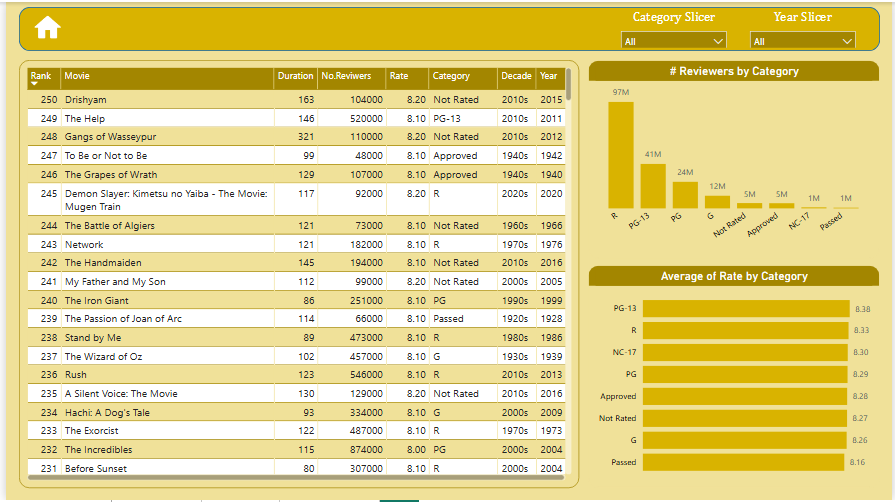

This screenshot's page, from the dashboard's own definition file:
{"tool":"powerbi","page":{"name":"Details","canvas":[1280,720],"ordinal":1},"visuals":[{"type":"tableEx","fields":{"Values":["Top250Movies.Rank","Top250Movies.Movie","Top250Movies.Duration","Top250Movies.No.Reviwers","Top250Movies.Rate","Top250Movies.Category","Top250Movies.Decade","Top250Movies.Year"]},"box":[19.1,83.8,809.6,618.6],"z":0},{"type":"columnChart","fields":{"Y":["Dax_MEs.# Reviewers"],"Category":["Top250Movies.Category"]},"box":[842,83.8,421.7,286.5],"z":1000},{"type":"shape","box":[18.8,7.2,1244.8,63.6],"z":2000},{"type":"image","box":[34.7,11.6,50.6,50.6],"z":3000},{"type":"barChart","fields":{"Y":["Avg(Top250Movies.Rate)"],"Category":["Top250Movies.Category"]},"box":[842,380.6,421.7,321.8],"z":4000},{"type":"slicer","title":"Year Slicer","fields":{"Values":["Top250Movies.Year"]},"box":[1065.5,10.1,173.5,56.4],"z":5000},{"type":"slicer","title":"Category Slicer","fields":{"Values":["Top250Movies.Category"]},"box":[879,10.1,173.5,56.4],"z":6000}]}

Visuals, with their boxes in screenshot pixels (x1, y1, x2, y2), scaled from the page's 1280x720 canvas onto the 895x502 screenshot:
tableEx - Top250Movies.Rank x Top250Movies.Movie: (13,58,579,490)
columnChart - Dax_MEs.# Reviewers x Top250Movies.Category: (589,58,884,258)
shape: (13,5,884,49)
image: (24,8,60,43)
barChart - Avg(Top250Movies.Rate) x Top250Movies.Category: (589,265,884,490)
"Year Slicer" slicer: (745,7,866,46)
"Category Slicer" slicer: (615,7,736,46)
